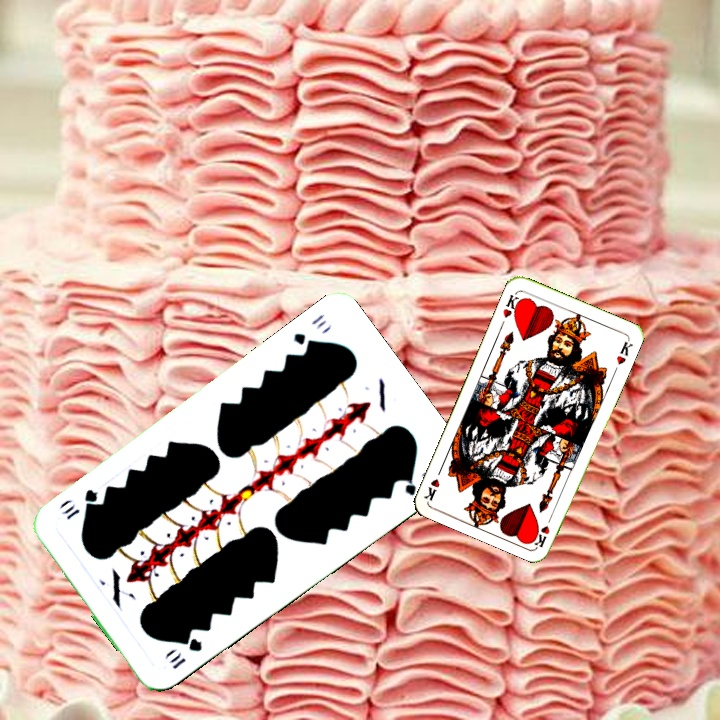G10: (289, 309, 330, 352), (166, 633, 205, 672)
HK: (531, 509, 556, 549), (499, 289, 524, 320)
